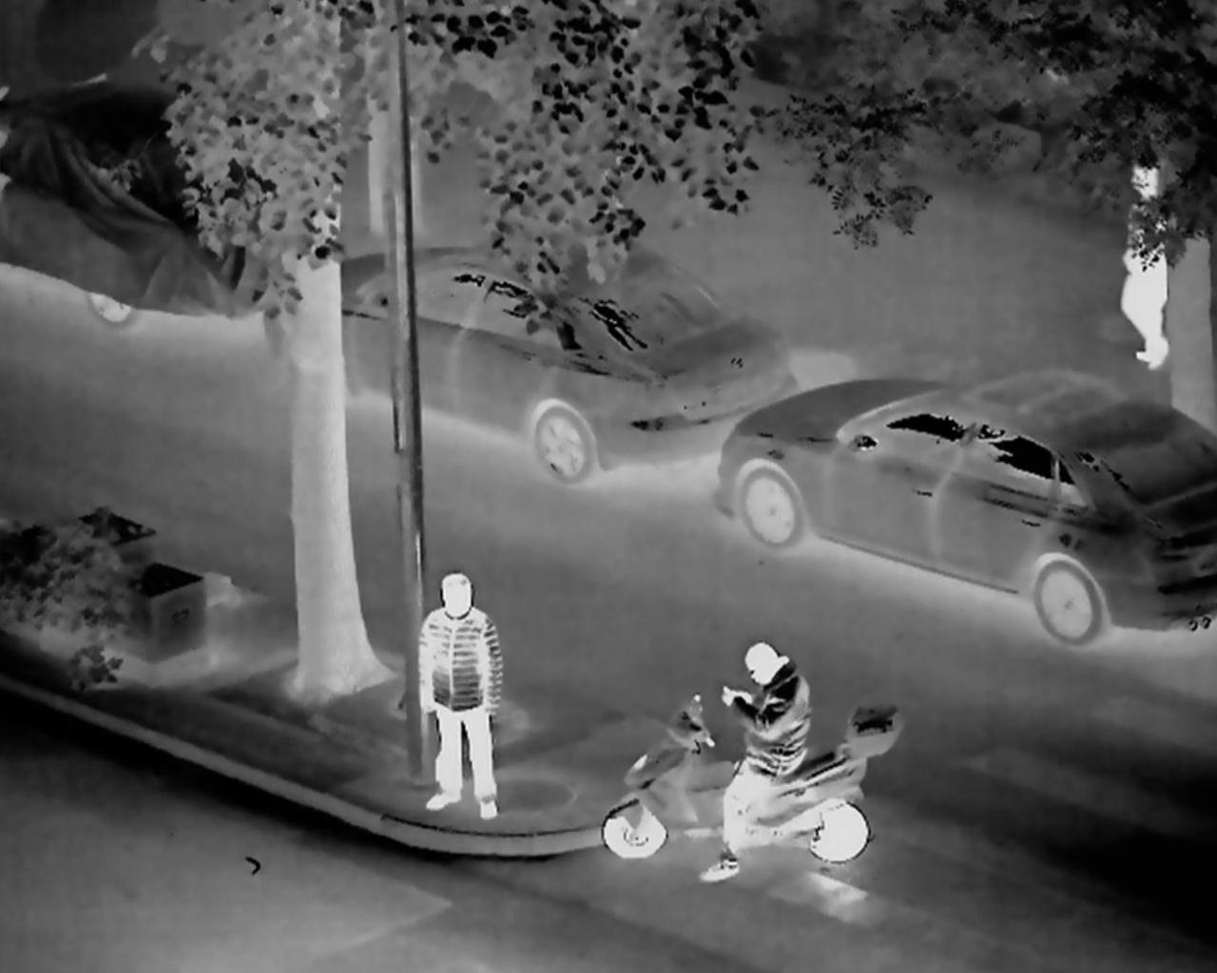person: (393, 561, 533, 810), (703, 633, 820, 890), (1090, 157, 1176, 383)
